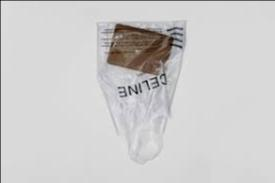Plastic: (91, 17, 182, 171)
